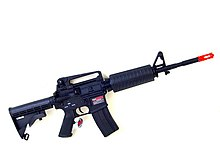Arma Falsa: (7, 51, 214, 139)
